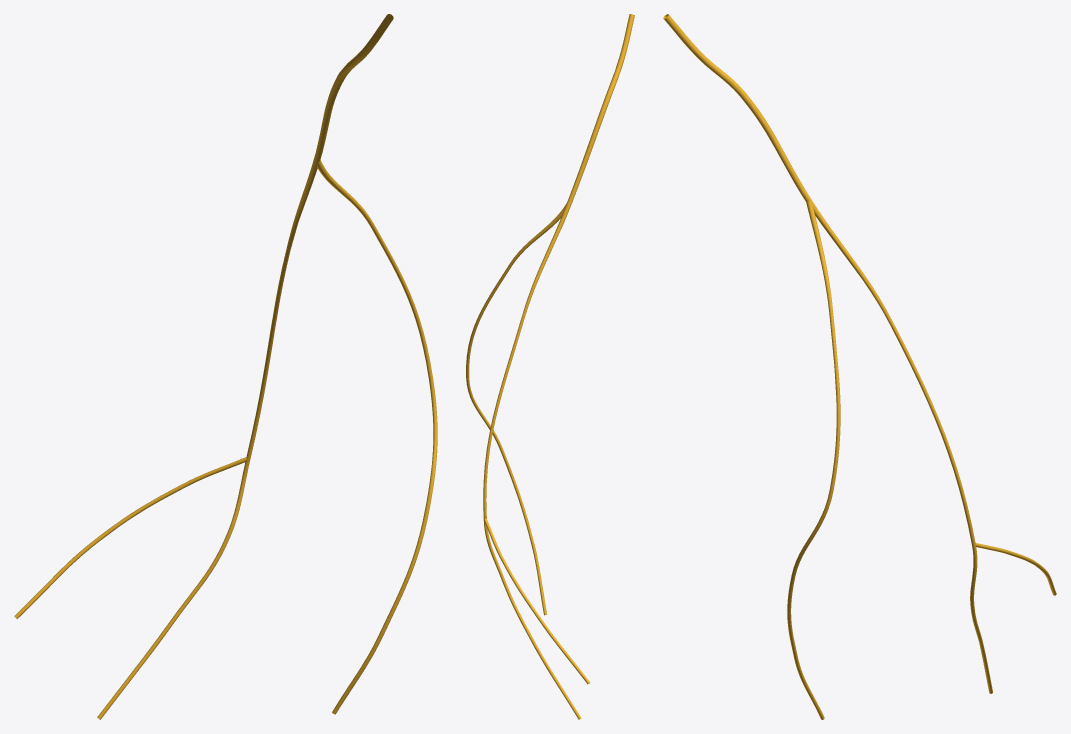
Rendered from nervoso-thoracodorsal-nerve-l.glb.
3 views of the same model, side by side, from view 1: azimuth 30°, elevation 25°; view 2: azimuth 150°, elevation 25°; view 3: azimuth 270°, elevation 25° (orthographic). The views are drawn at different scales.
Visible parts, largest first — view 1: Thoracodorsal nerve.l; view 2: Thoracodorsal nerve.l; view 3: Thoracodorsal nerve.l.
Part boxes in pixels (x1=…): Thoracodorsal nerve.l: x1=14, y1=14, x2=437, y2=719; Thoracodorsal nerve.l: x1=466, y1=14, x2=634, y2=719; Thoracodorsal nerve.l: x1=663, y1=14, x2=1056, y2=719.
Size of the model in its own units: 0.0612 by 0.161 by 0.079.
